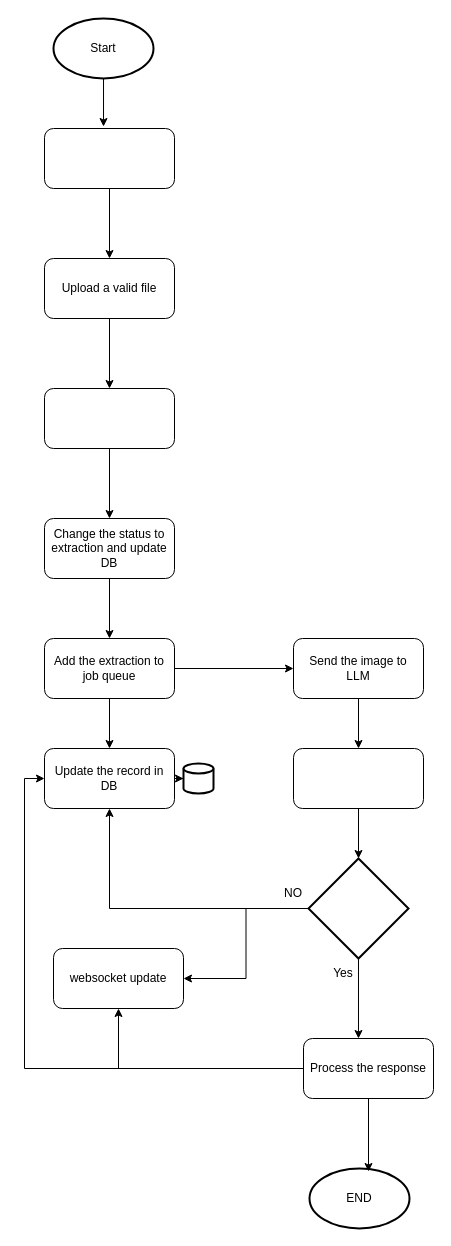
The diagram is 451 pixels wide and 1246 high, and some of its shapes have lost their labels. The shapes that lost their labels are listed below. From the top down, each one's box as (x1, y1, x2, y2) in pixels, then its label:
(44, 128, 174, 188): Generae a hash from email and use this as auth token
(44, 388, 174, 448): create a unique key and upload image to s3
(292, 748, 424, 808): Get the raw response
(307, 857, 409, 959): response valid
